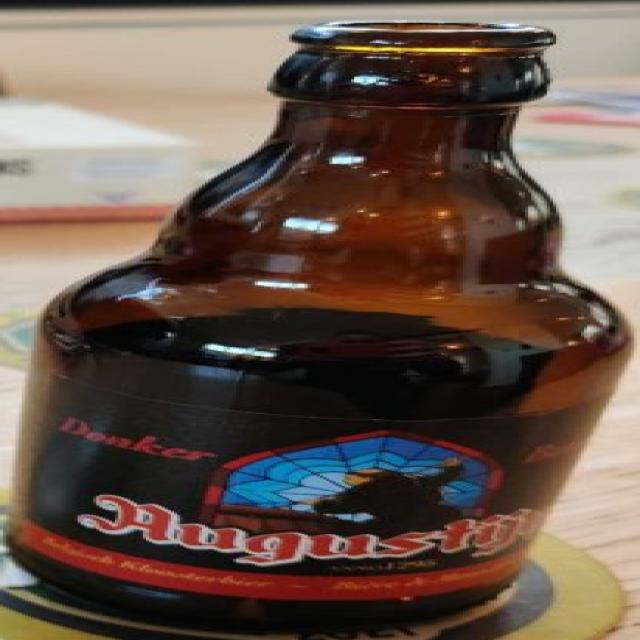Augustijn: (0, 1, 640, 640)
